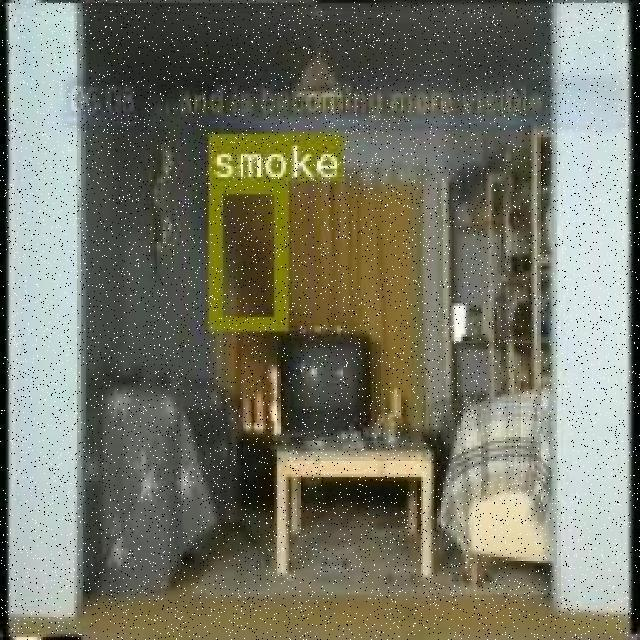Smoke: (208, 215, 283, 290)
